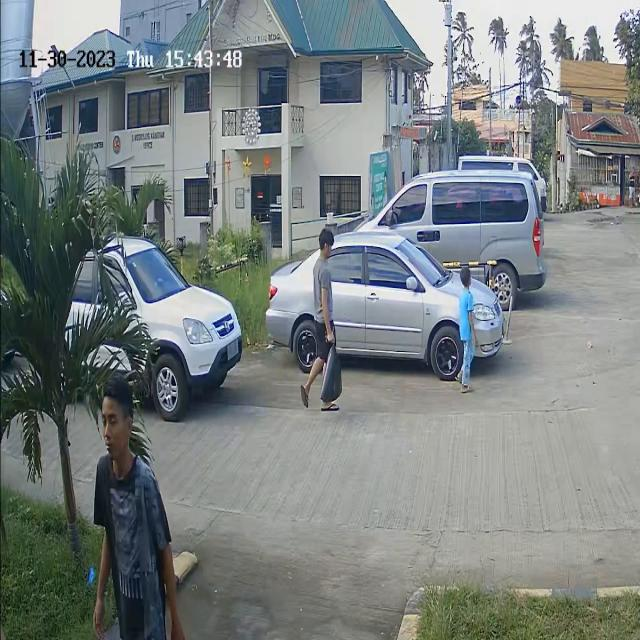garbage: (316, 330, 352, 404)
person: (95, 372, 147, 532), (308, 223, 341, 349), (456, 260, 480, 380)
